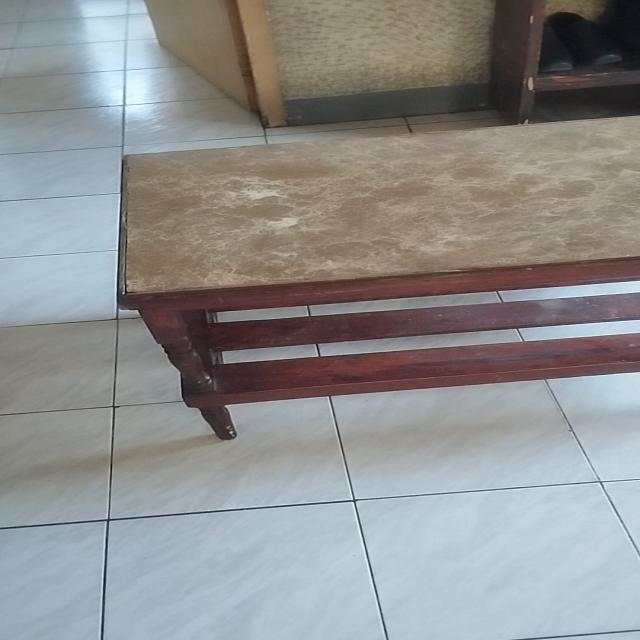table: (105, 117, 640, 440)
